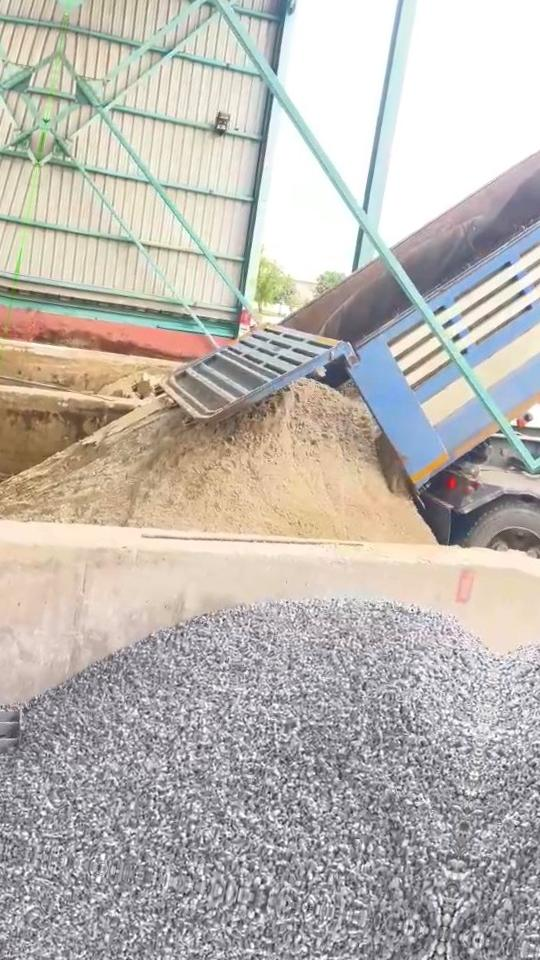gravel: (0, 600, 495, 932)
sand: (0, 380, 433, 543), (99, 369, 162, 400)
